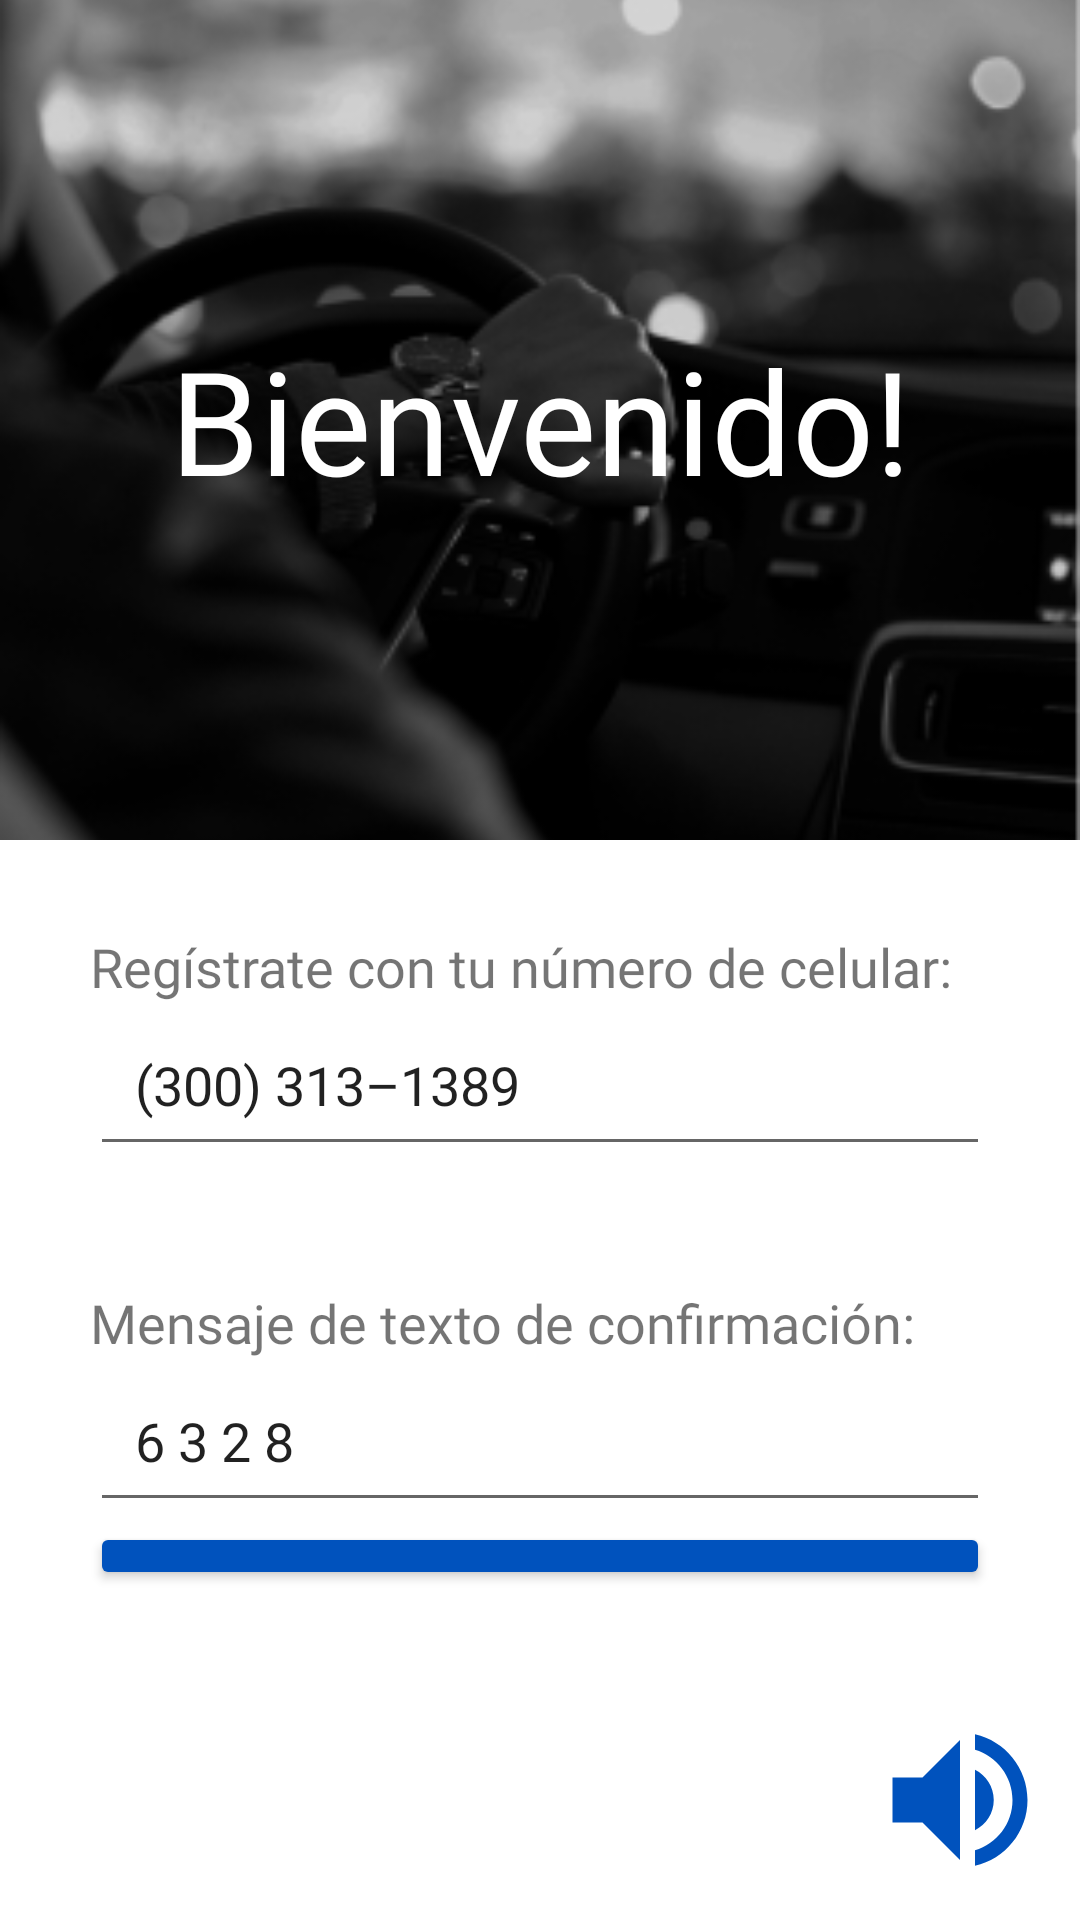

Icons on this 1080x1920 Android screen, each with its box as [x1=x1, y1=y1, x2=x2, y2=y2]:
volume up: [x1=892, y1=1734, x2=1028, y2=1866]
